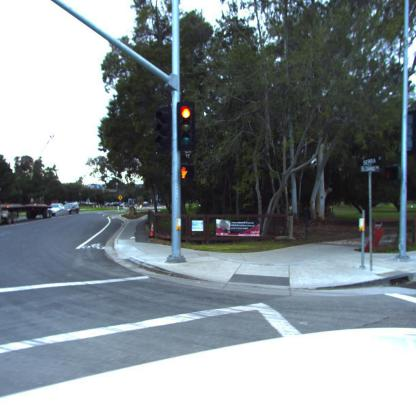car: (61, 202, 79, 214), (49, 203, 66, 215)
traffic light: (178, 102, 197, 154), (154, 105, 173, 155), (182, 166, 196, 182)
